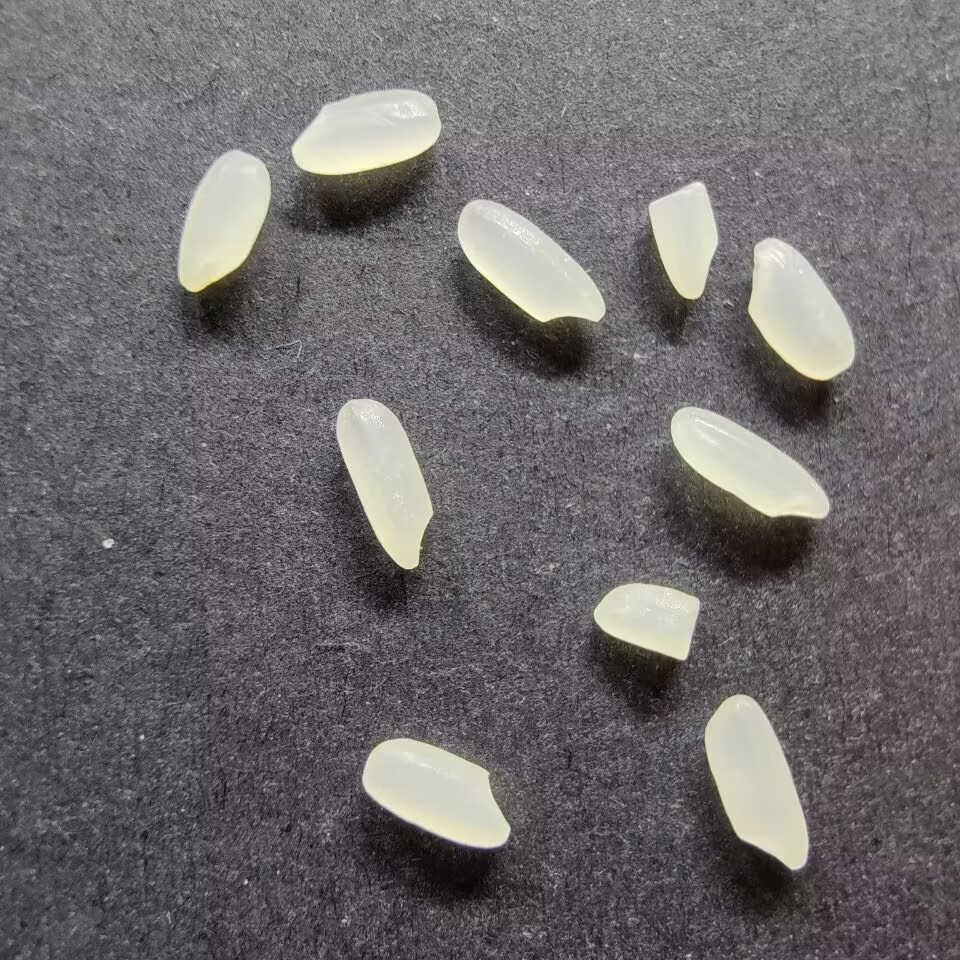broken: (591, 581, 703, 663), (645, 180, 720, 301)
rice: (455, 197, 607, 326), (703, 692, 810, 872), (668, 405, 831, 521), (334, 396, 436, 570), (361, 736, 512, 850), (745, 235, 857, 383), (175, 147, 271, 294), (289, 87, 440, 177)
